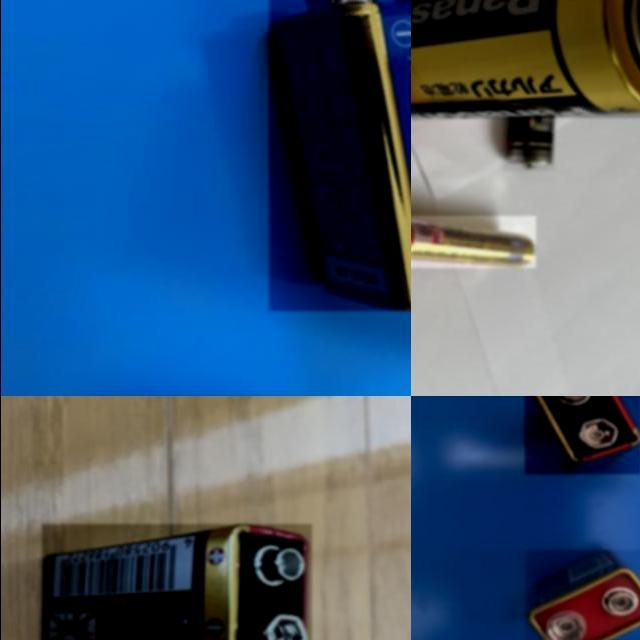9V: (268, 0, 410, 311), (42, 524, 311, 640), (526, 550, 640, 640), (524, 396, 640, 474)
